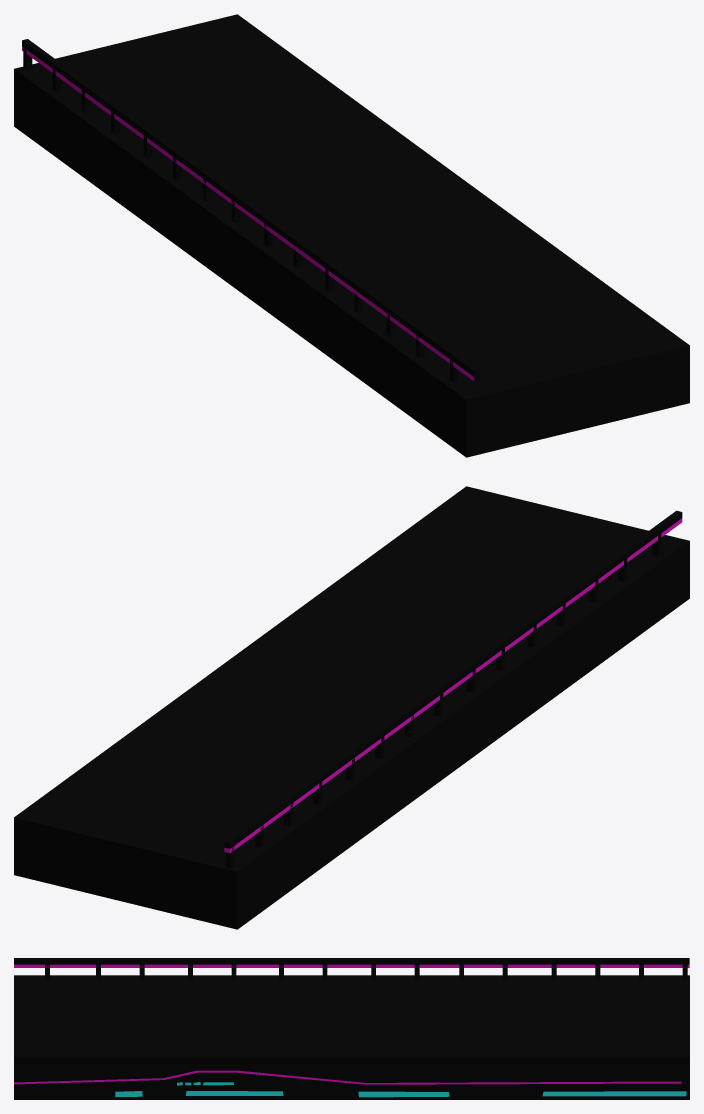
File: neonyol4.fbx
3 renders of one model, top to bottom at view 1: azimuth 30°, elevation 25°; view 2: azimuth 150°, elevation 25°; view 3: azimuth 270°, elevation 25°, orthographic. The views are drawn at different scales.
Visible parts, largest first — view 1: Cube.116; view 2: Cube.116; view 3: Cube.116.
Boxes of the visible parts, left/top/right/bottom form: Cube.116: left=14, top=14, right=689, bottom=457; Cube.116: left=14, top=486, right=689, bottom=929; Cube.116: left=14, top=958, right=689, bottom=1099.
Size of the model in its own units: 200 by 72.34 by 701.
